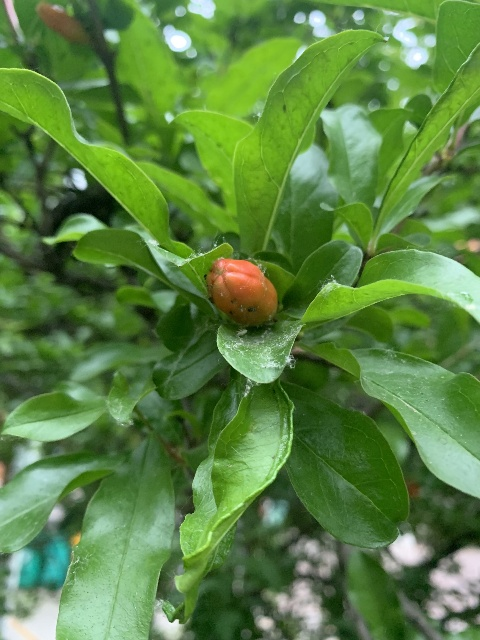bud: (206, 258, 277, 327)
